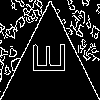E: (25, 42, 65, 75)
